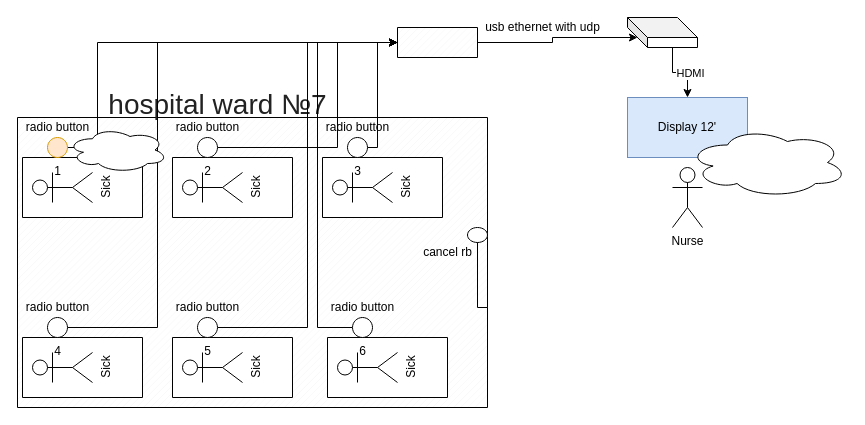
The diagram is 865 pixels wide and 425 high, and some of its shapes have lost their labels. Here are the shapes that lost their labels. From the top down, the centre of each, then its label:
At point (437, 42): "radio button controller".
At point (662, 32): "orangepi".
At point (117, 149): "i feel bad..".
At point (767, 162): "I should go in ward #7 and bed #1..".
